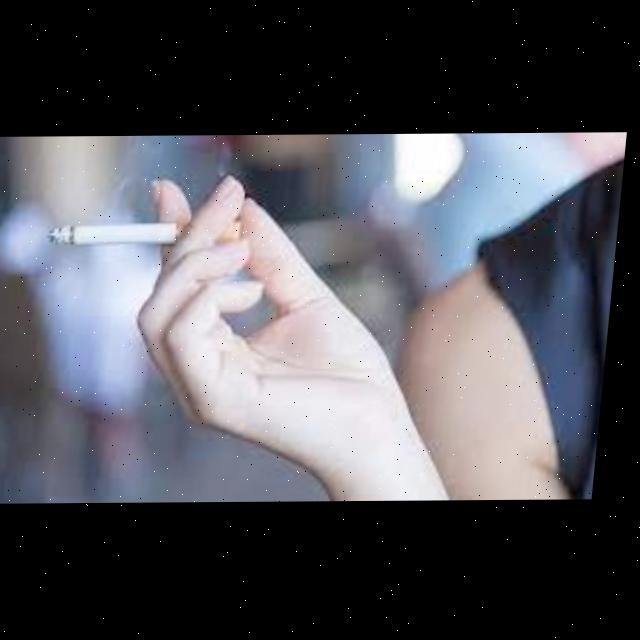cigarette: (51, 222, 249, 244)
